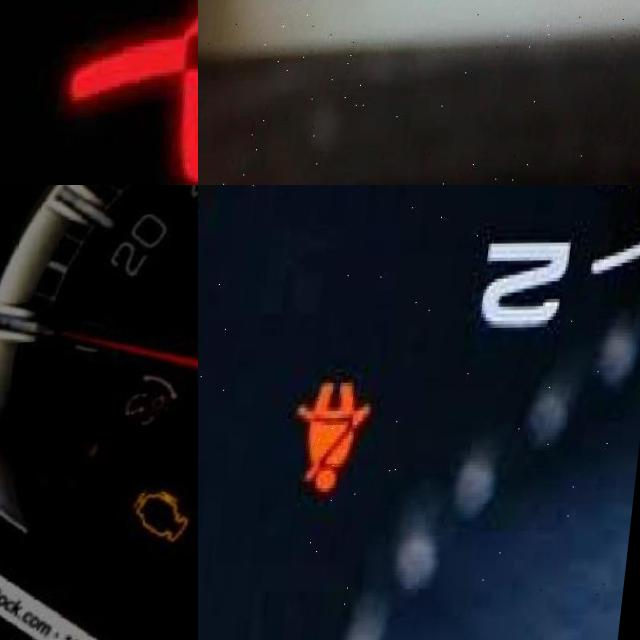Seat Belt: (70, 0, 198, 181), (289, 383, 382, 498)
